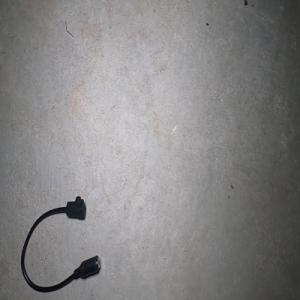Wire: (20, 196, 100, 293)
